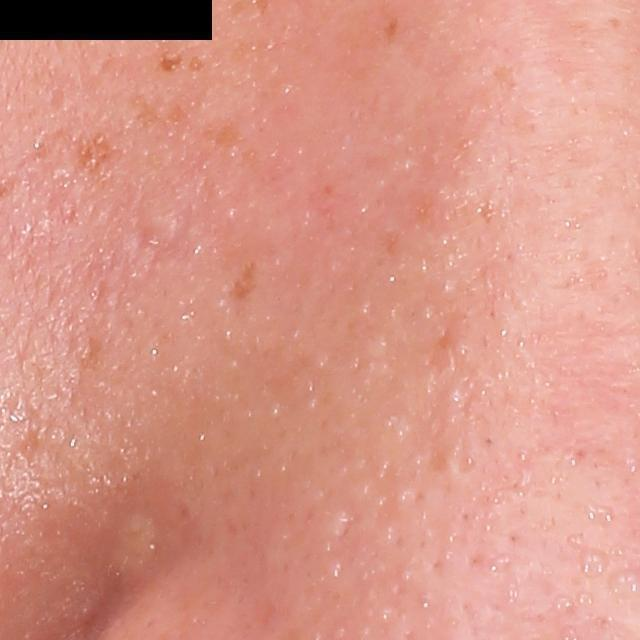atrophic_scar: (132, 214, 189, 266)
hypertrophic_scar: (102, 499, 169, 587)
melasma: (127, 90, 193, 129), (222, 255, 266, 301), (200, 111, 247, 153), (381, 10, 404, 39), (157, 52, 185, 75)
